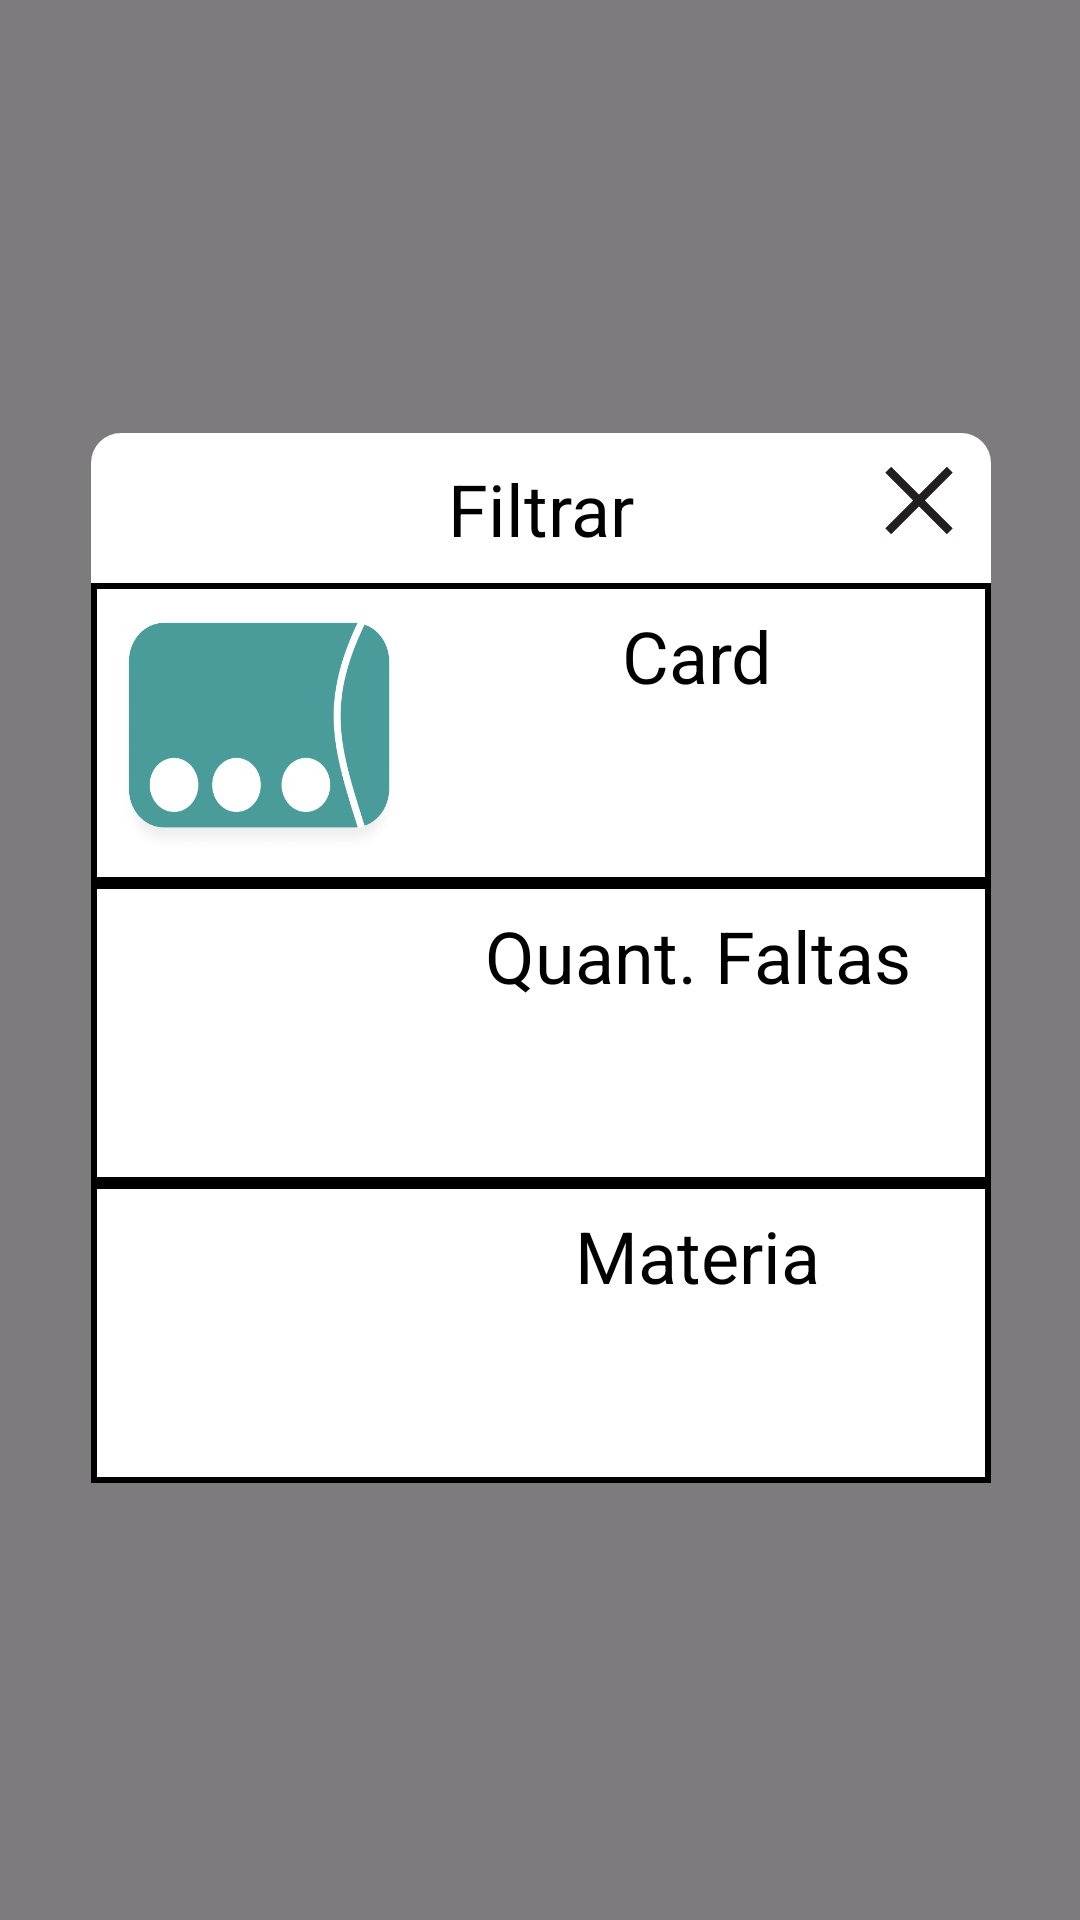

Named icons in this screenshot (1080w x 1920h) and their centers, [x,y]:
close: [919,500]
